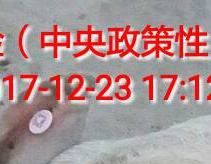text: (16, 104, 62, 140)
